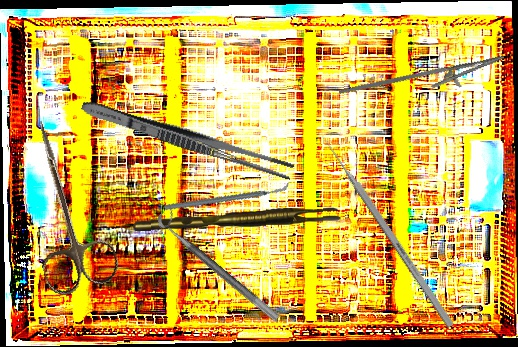Chopper: (163, 151, 292, 241)
Dressing Forceps: (78, 96, 296, 182)
Fixation Ring: (153, 204, 289, 323)
Iris Scissors: (1, 110, 123, 300)
Needle Holder: (338, 35, 509, 126)
Pusher: (318, 132, 456, 329)
Tissue Forceps: (132, 207, 342, 231)
